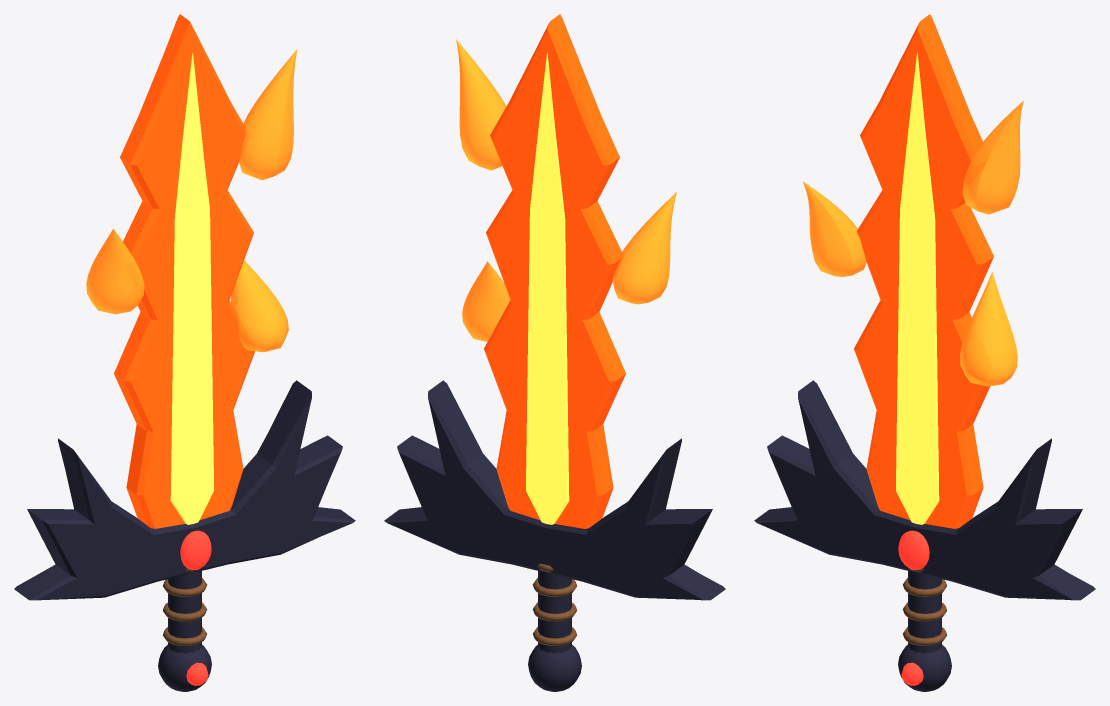
Rendered from sword_fire.glb.
The picture shows the model from 3 angles, left to right: view 1: azimuth 30°, elevation 25°; view 2: azimuth 150°, elevation 25°; view 3: azimuth 330°, elevation 25°; orthographic projection.
Visible parts, largest first — view 1: Blade, ClawGuard, Core, Flame0, Flame2, Flame1, Grip, Pommel, GuardGem; view 2: Blade, ClawGuard, Core, Flame1, Flame0, Flame2, Pommel, Grip; view 3: Blade, ClawGuard, Core, Flame0, Flame2, Flame1, Grip, Pommel, GuardGem.
Part boxes in pixels (x1,y1,x2,y2): Blade: (114, 14, 254, 528); ClawGuard: (14, 380, 355, 600); Core: (170, 52, 213, 524); Flame0: (239, 49, 297, 180); Flame2: (230, 260, 288, 352); Flame1: (86, 229, 144, 314); Grip: (168, 571, 201, 653); Pommel: (158, 645, 211, 691); GuardGem: (180, 530, 211, 569); Blade: (484, 14, 625, 528); ClawGuard: (384, 380, 725, 600); Core: (526, 52, 569, 524); Flame1: (612, 192, 676, 304); Flame0: (456, 39, 506, 170); Flame2: (462, 261, 510, 341); Pommel: (528, 645, 581, 691); Grip: (538, 571, 571, 653); Blade: (854, 14, 993, 528); ClawGuard: (754, 380, 1095, 600); Core: (896, 52, 939, 524); Flame0: (962, 101, 1023, 214); Flame2: (960, 271, 1017, 386); Flame1: (803, 181, 866, 276); Grip: (908, 571, 941, 653); Pommel: (898, 645, 951, 691); GuardGem: (898, 530, 929, 569).
Bounding box in the file's own units: 0.5569 × 1.09 × 0.1138.
